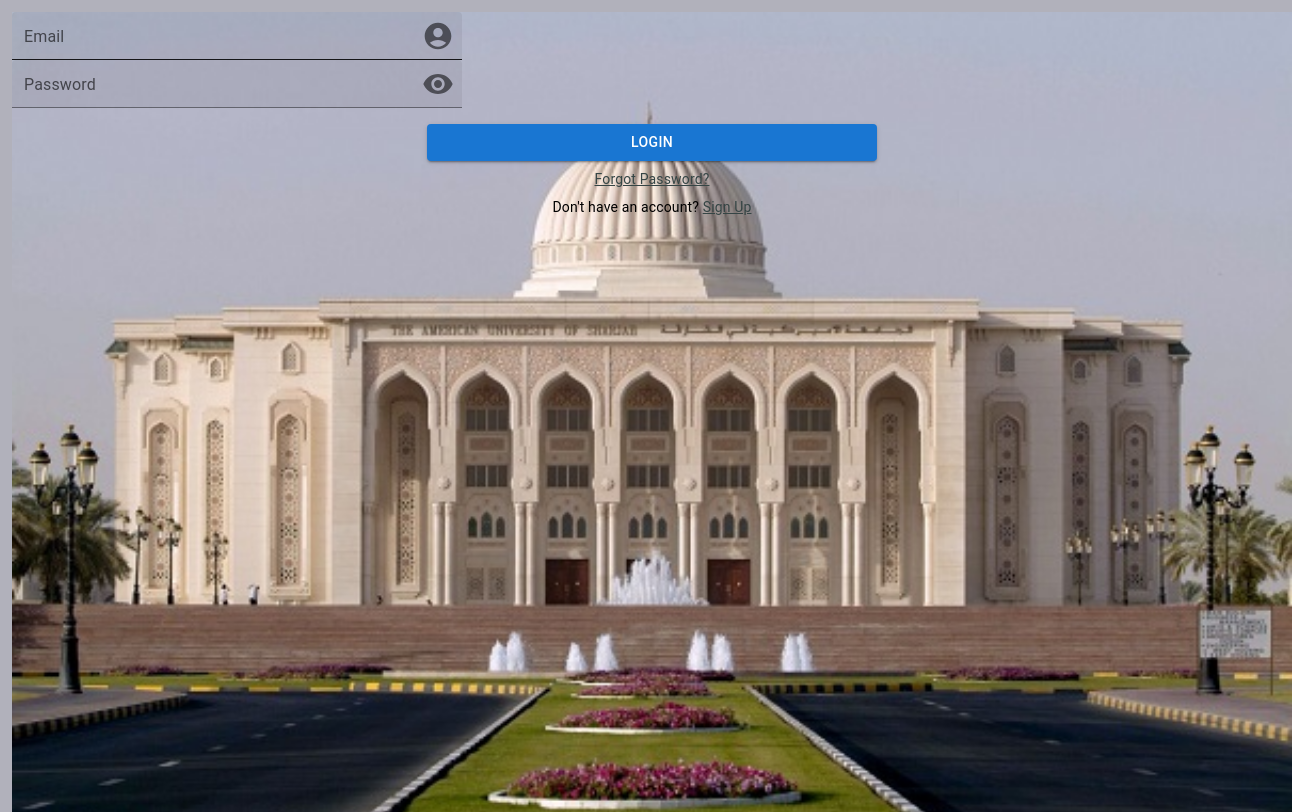
Scenario: Login › shows an error when fields are empty
What coordinates should you click on to do the following:
click the button "Login"
I would click on:
 (652, 142)
Its box is [427,124,877,160].
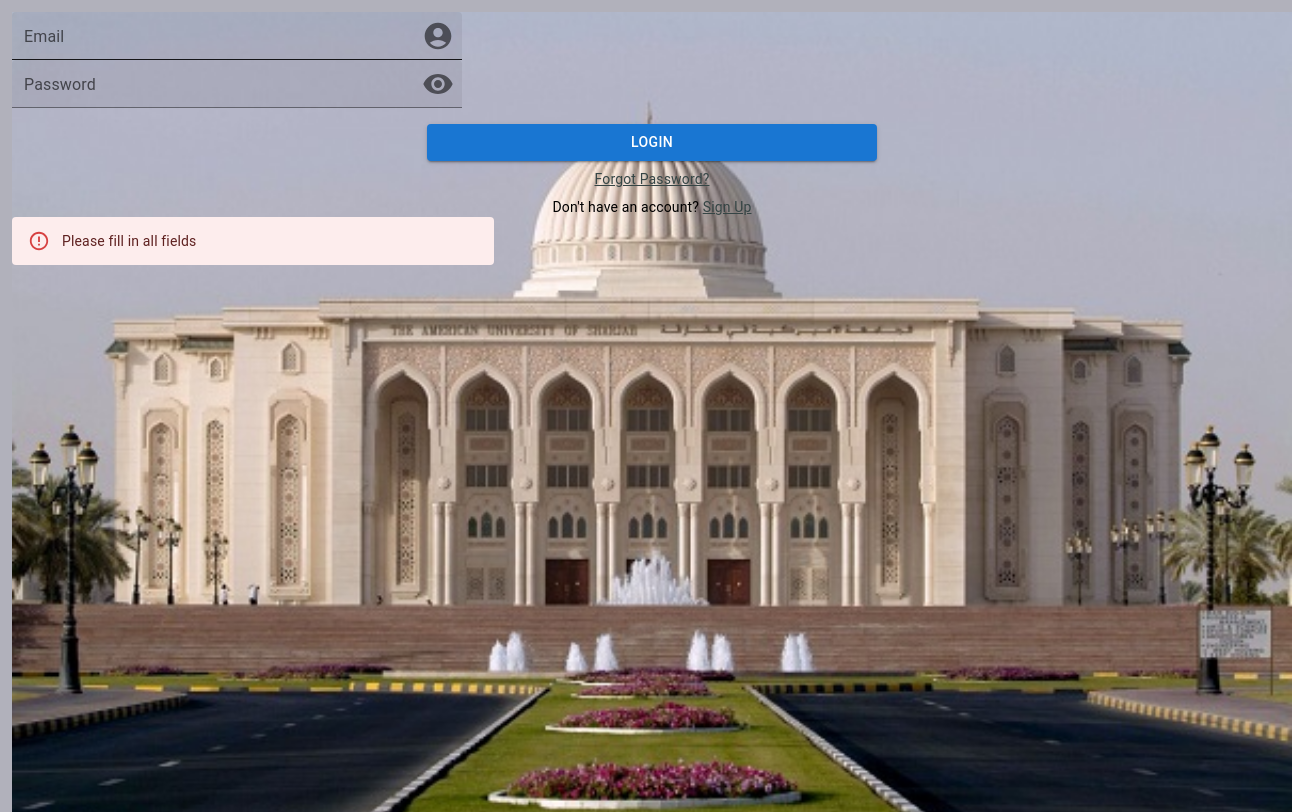
Result: the text "Please fill in all fields" is shown at [62,232,196,248]
